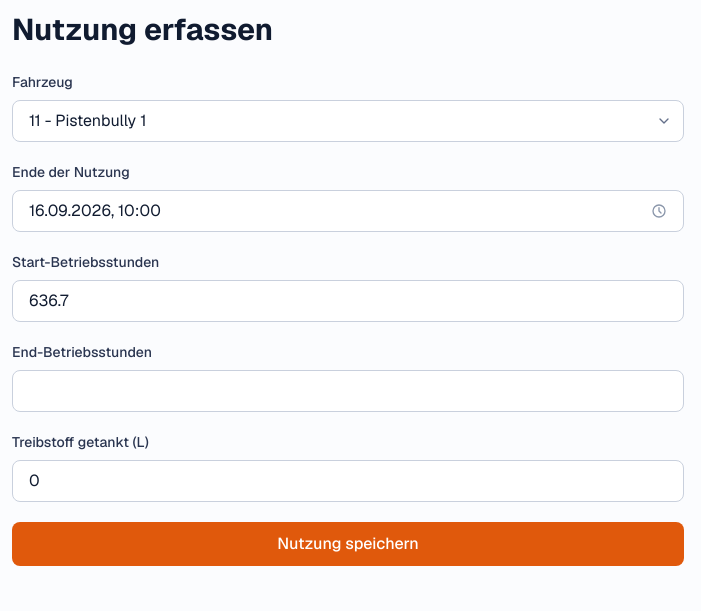
Test: Nutzung erfassen › input validation › treats an end equal to the start as invalid
The image size is (701, 611).
Check: the number field with id "startOperatingHours" is enabled, box 12,280 -> 684,322
Check: the number field with id "startOperatingHours" is not empty, box 12,280 -> 684,322
Type "636.7" into the number field with id "endOperatingHours" at (348, 391), box 12,370 -> 684,412
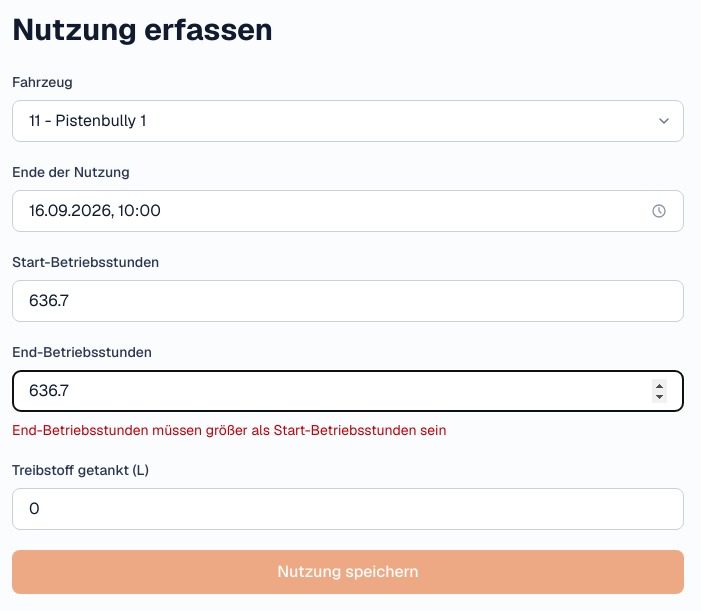
Check: the button "Nutzung speichern" is disabled, box 12,550 -> 684,594
